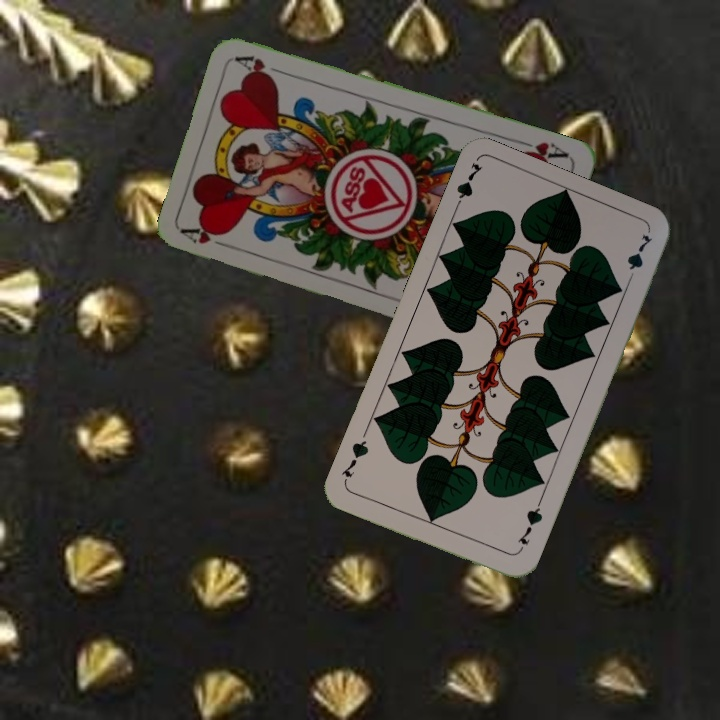G7: (449, 159, 485, 215), (513, 499, 545, 548)
HA: (179, 221, 237, 253), (513, 135, 571, 165)
